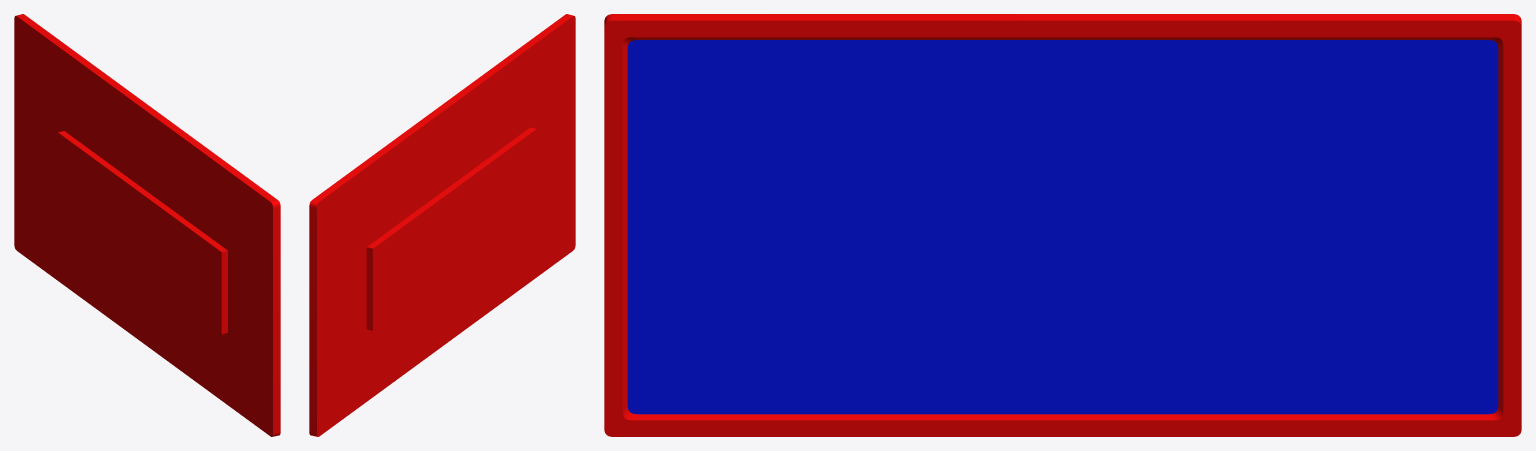
The picture shows the model from 3 angles, left to right: view 1: azimuth 30°, elevation 25°; view 2: azimuth 150°, elevation 25°; view 3: azimuth 270°, elevation 25°; orthographic projection. The views are drawn at different scales.
Visible parts, largest first — view 1: TV; view 2: TV; view 3: TV.
Boxes of the visible parts, x1,y1,x2,y2 form: TV: (14, 14, 280, 436); TV: (309, 14, 575, 436); TV: (604, 14, 1521, 436).
Bounding box in the file's own units: 3.09 × 49.99 × 99.8.
